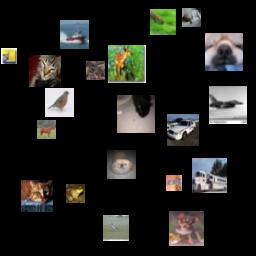airplane: (209, 86, 247, 124)
automobile: (167, 114, 199, 146)
bird: (45, 88, 74, 117), (103, 215, 129, 241)
cat: (117, 95, 155, 133), (21, 180, 53, 212), (29, 55, 61, 87), (166, 175, 182, 191), (1, 48, 17, 64)
deer: (108, 45, 146, 83), (150, 9, 176, 35)
dog: (205, 33, 243, 71), (169, 211, 204, 246), (107, 150, 136, 179), (182, 8, 201, 27)
frog: (66, 184, 85, 203), (86, 61, 105, 80)
ship: (60, 20, 89, 49)
truck: (192, 158, 227, 193)
